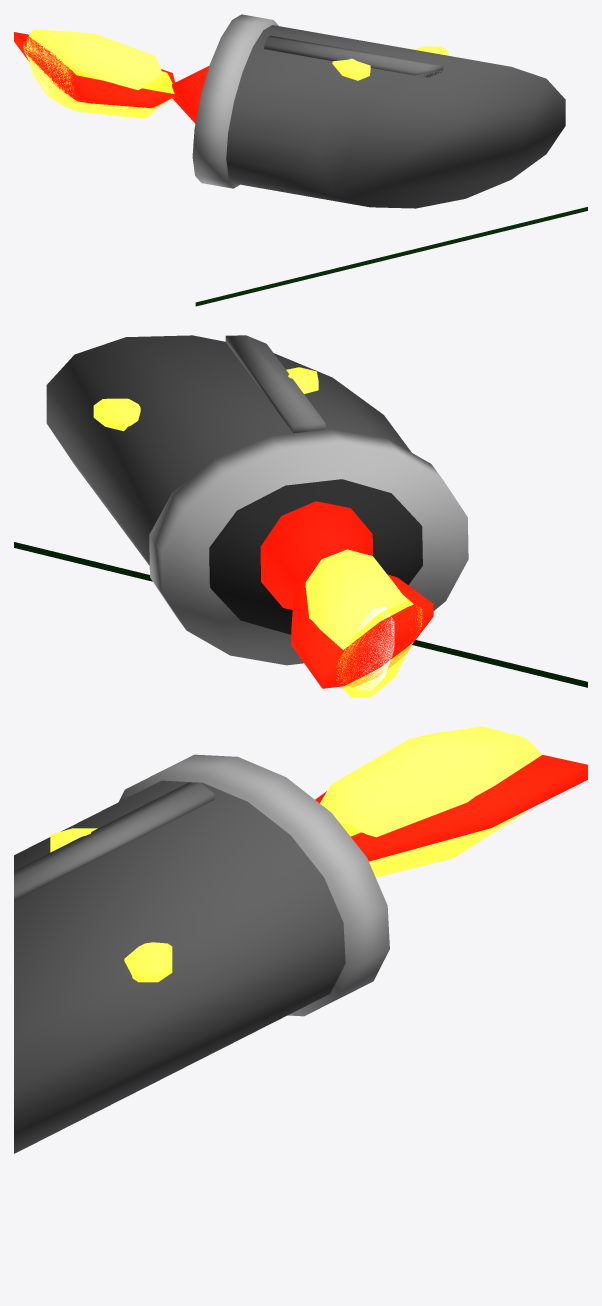
Rendered from newshj-55.glb.
3 views of the same model, one above another, from view 1: azimuth 30°, elevation 25°; view 2: azimuth 150°, elevation 25°; view 3: azimuth 270°, elevation 25° (orthographic). The views are drawn at different scales.
Visible parts, largest first — view 1: newshj-55, newshj-55-flame, newshj-55-lights-17; view 2: newshj-55, newshj-55-flame, newshj-55-lights-17; view 3: newshj-55, newshj-55-flame, newshj-55-lights-17.
Part boxes in pixels (x1,y1,x2,y2): newshj-55: (172,14,587,306); newshj-55-flame: (14,29,175,118); newshj-55-lights-17: (332,46,448,80); newshj-55: (14,335,587,687); newshj-55-flame: (291,549,433,697); newshj-55-lights-17: (93,367,318,431); newshj-55: (14,754,389,1153); newshj-55-flame: (315,726,587,877); newshj-55-lights-17: (50,828,172,982).
Size of the model in its own units: 2 by 0.9447 by 1.6.
